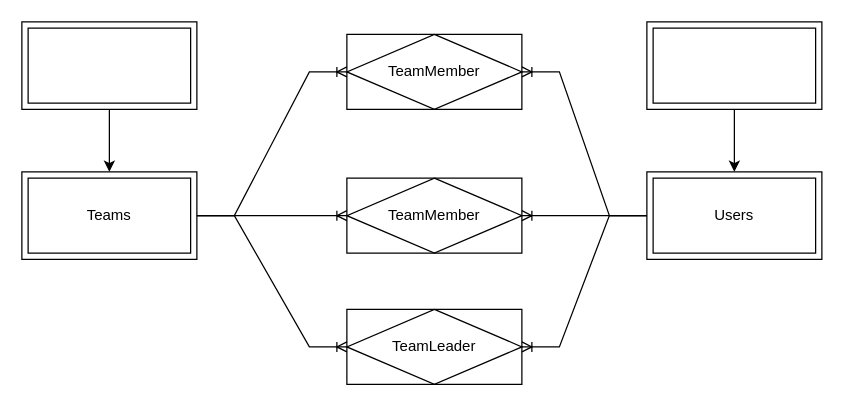
Some shapes in this 844 by 406 pixel diagram are drawn without their labels. The box of each missing label's shape, as (x1, y1, x2, y2) in pixels:
Projects: (21, 21, 197, 109)
Schedules: (646, 21, 822, 109)
